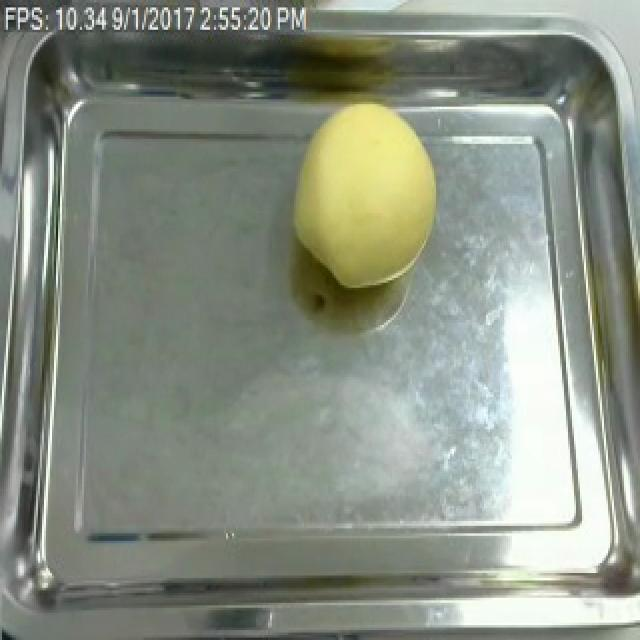Fruit: (282, 97, 448, 295)
